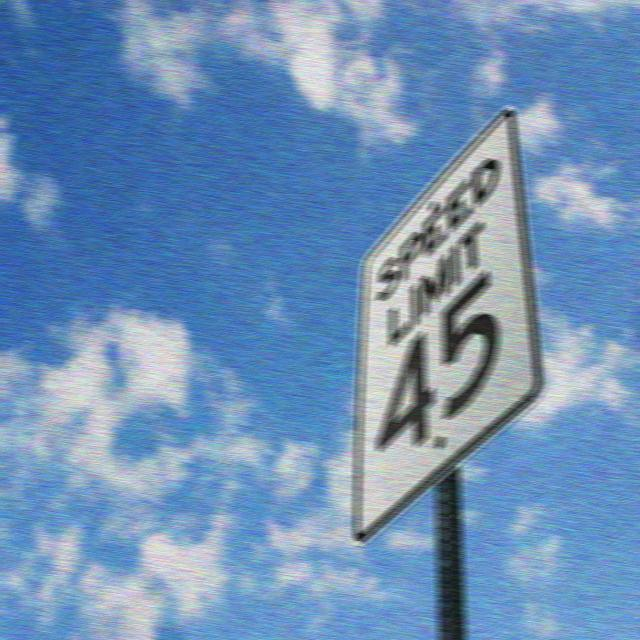speedLimit45: (347, 100, 548, 548)
